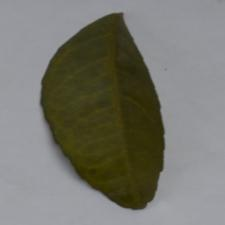Greening: (47, 29, 171, 179)
